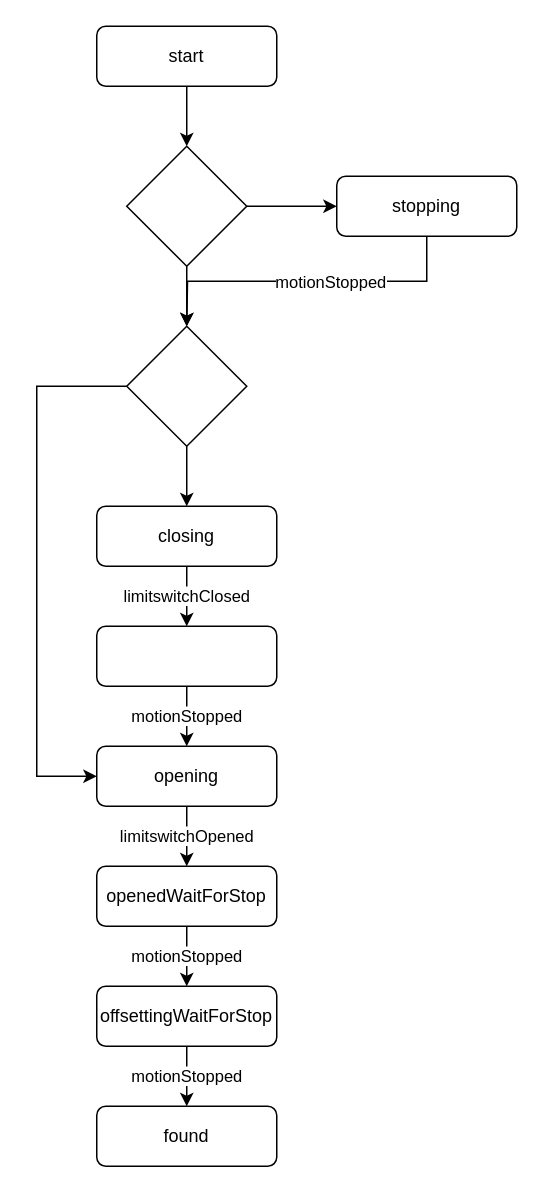
The diagram is 543 pixels wide and 1193 high, and some of its shapes have lost their labels. The centre of each missing label's shape, as x and y in pixels:
closedWaitForStop: pixel 186 655
limitswitch closed ?: pixel 186 385
stopped ?: pixel 186 205
